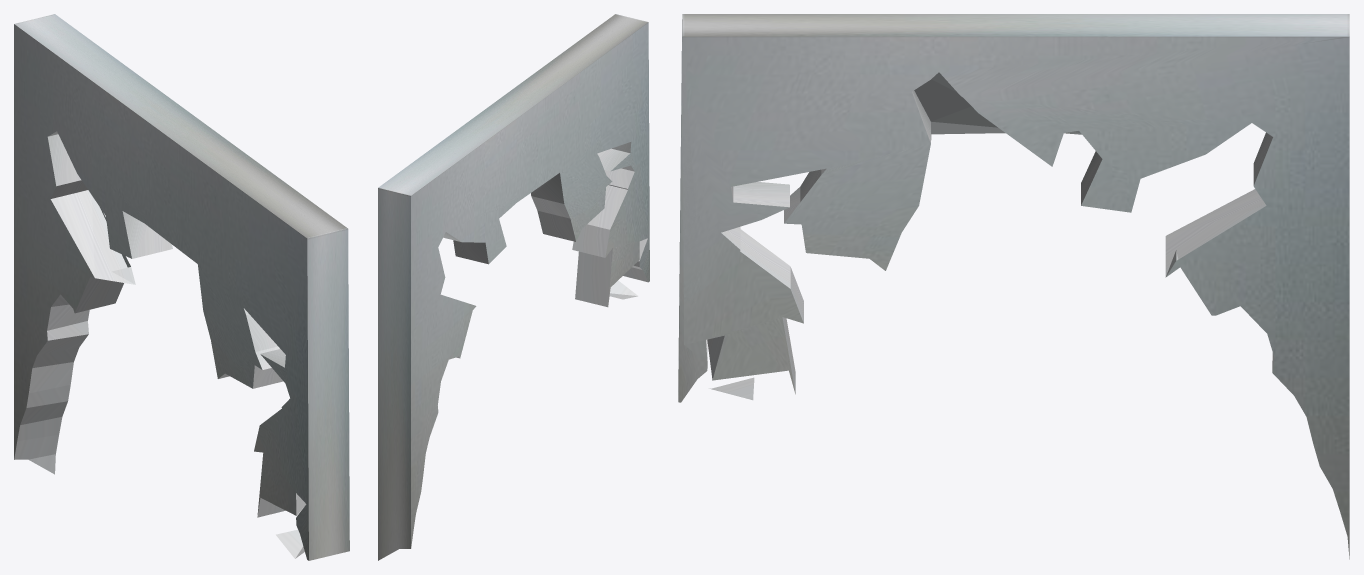
The model's file is window busted.FBX.
The picture shows the model from 3 angles, left to right: view 1: azimuth 30°, elevation 25°; view 2: azimuth 150°, elevation 25°; view 3: azimuth 270°, elevation 25°; orthographic projection. The views are drawn at different scales.
Parts seen in each view (by area): view 1: r2-3 window busted; view 2: r2-3 window busted; view 3: r2-3 window busted.
Part boxes in pixels (x1=…): r2-3 window busted: x1=14, y1=14, x2=349, y2=560; r2-3 window busted: x1=378, y1=14, x2=649, y2=560; r2-3 window busted: x1=678, y1=14, x2=1349, y2=559.
Bounding box in the file's own units: 0.3163 × 3.4 × 3.95.
1 material, 1 textured.
